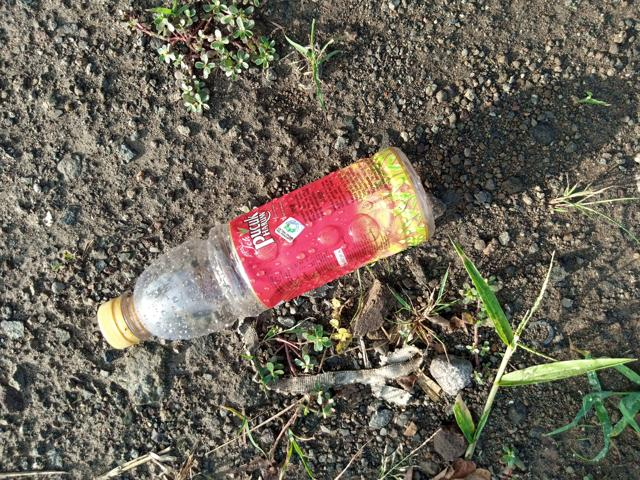botol_kaca: (91, 135, 447, 361)
